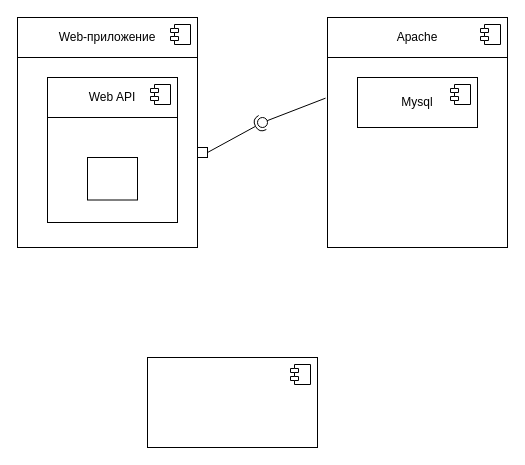
The diagram is 525 pixels wide and 465 high, and some of its shapes have lost their labels. The centre of each missing label's shape, as x and y in pixels:
"LAN" goes at point 112,178.
"«Annotation» Component" goes at point 232,402.
